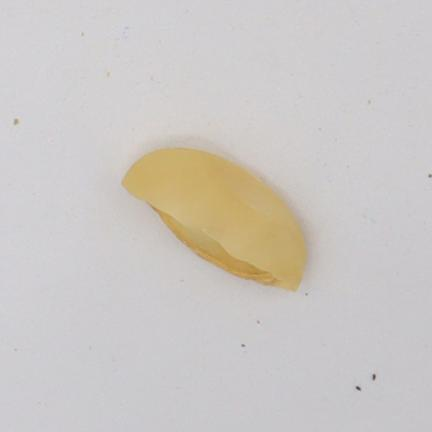parchment: (123, 148, 306, 290)
